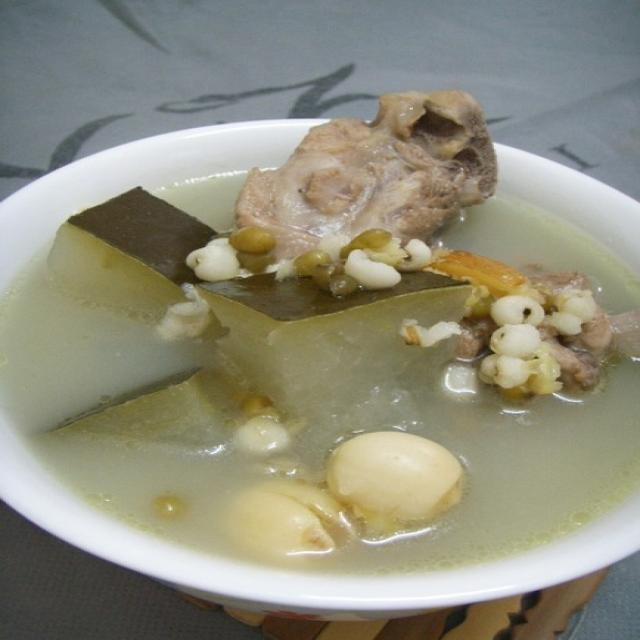汤锅炖物: (12, 98, 618, 581)
